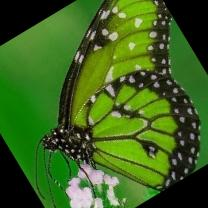butterfly: (41, 0, 201, 191)
